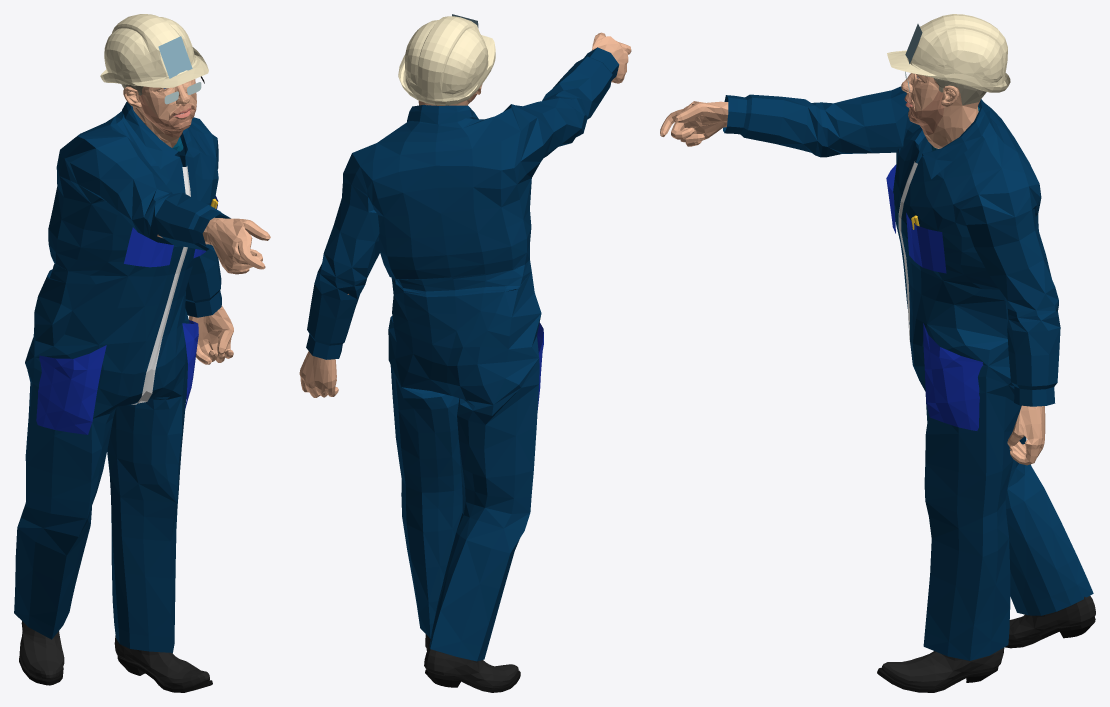
File: Worker_002.fbx
The picture shows the model from 3 angles, left to right: view 1: azimuth 30°, elevation 25°; view 2: azimuth 150°, elevation 25°; view 3: azimuth 270°, elevation 25°; orthographic projection. The views are drawn at different scales.
Parts seen in each view (by area): view 1: X3GPL_COL_MAT\, SKP_*19_99a55629\, SKP_*3_99a55629\, SKP_SKP_[Col_159a345f_ea12577b\, SKP_*15_99a55629\, Global\, SKP_*11_99a55629\, SKP_*16_99a55629\, SKP_duisburg_1118dc1b_ea12577b\; view 2: X3GPL_COL_MAT\, SKP_SKP_[Col_159a345f_ea12577b\, SKP_*3_99a55629\, SKP_*15_99a55629\, SKP_*16_99a55629\; view 3: X3GPL_COL_MAT\, SKP_*3_99a55629\, SKP_SKP_[Col_159a345f_ea12577b\, SKP_*19_99a55629\, SKP_*15_99a55629\, SKP_*16_99a55629\, SKP_*11_99a55629\.
Part boxes in pixels (x1,y1,x2,y2): X3GPL_COL_MAT\: (14,101,230,652); SKP_*19_99a55629\: (36,196,218,434); SKP_*3_99a55629\: (123,79,270,364); SKP_SKP_[Col_159a345f_ea12577b\: (100,14,208,87); SKP_*15_99a55629\: (19,621,209,688); Global\: (131,113,190,404); SKP_*11_99a55629\: (138,94,196,137); SKP_*16_99a55629\: (19,656,212,692); SKP_duisburg_1118dc1b_ea12577b\: (158,36,192,78); X3GPL_COL_MAT\: (306,47,619,661); SKP_SKP_[Col_159a345f_ea12577b\: (398,16,495,105); SKP_*3_99a55629\: (299,32,631,397); SKP_*15_99a55629\: (424,634,518,688); SKP_*16_99a55629\: (425,649,520,692); X3GPL_COL_MAT\: (723,86,1093,660); SKP_*3_99a55629\: (660,73,1045,465); SKP_SKP_[Col_159a345f_ea12577b\: (887,14,1010,92); SKP_*19_99a55629\: (886,164,983,430); SKP_*15_99a55629\: (882,596,1095,688); SKP_*16_99a55629\: (877,617,1095,692); SKP_*11_99a55629\: (905,90,943,135).
Size of the model in its own units: 658 by 1099 by 1844.
